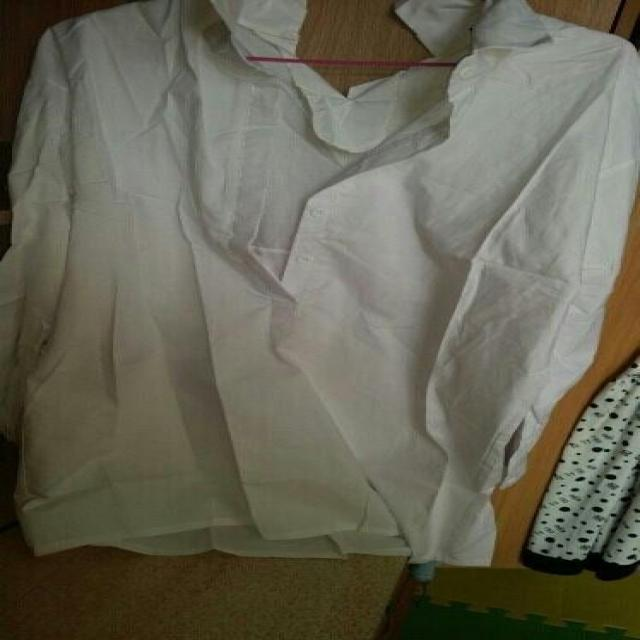long-sleeve-top: (25, 17, 542, 594)
